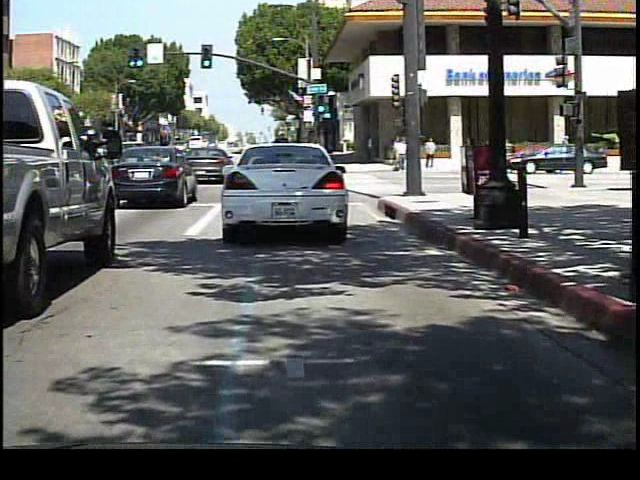person: (487, 135, 507, 172), (423, 135, 440, 170), (393, 137, 407, 176)
